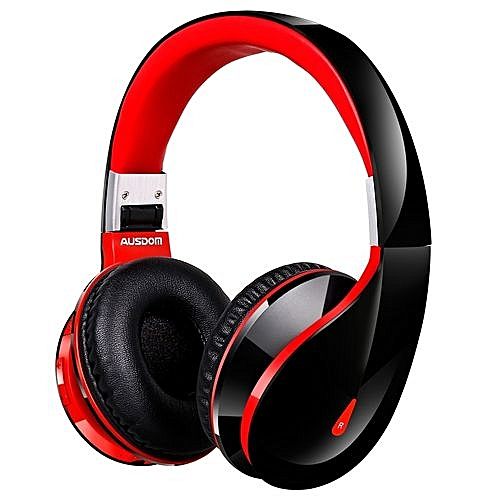Headphone: (49, 5, 438, 498)
